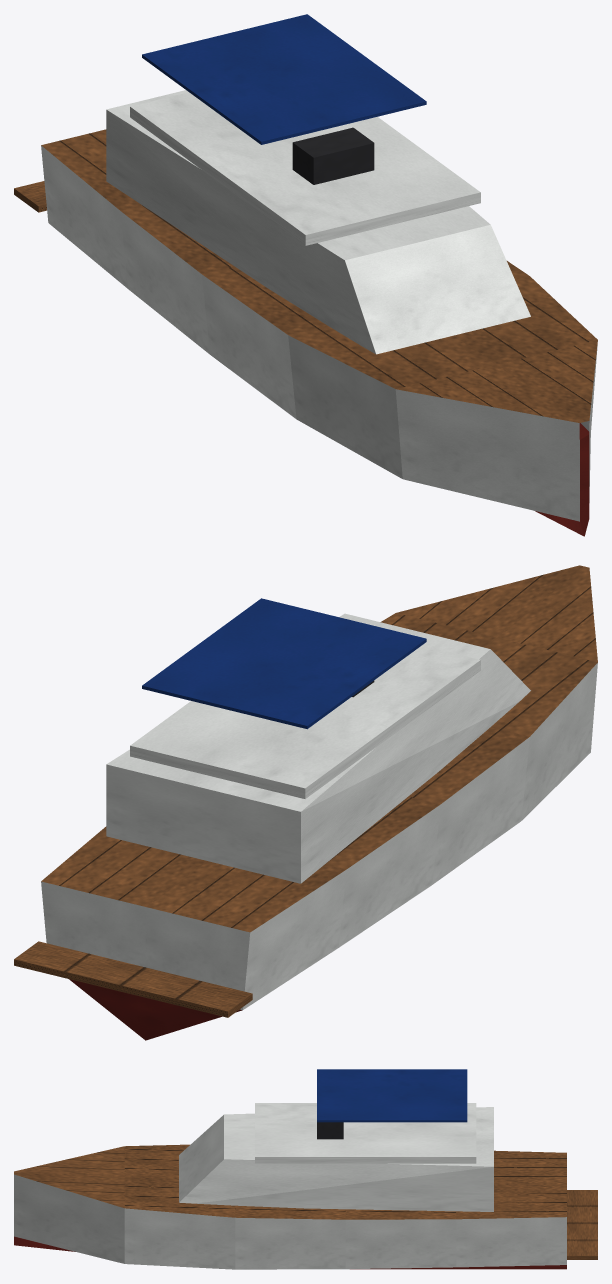
File: SM_Mirabello_YachtA_LOD2.fbx
3 renders of one model, top to bottom at view 1: azimuth 30°, elevation 25°; view 2: azimuth 150°, elevation 25°; view 3: azimuth 270°, elevation 25°, orthographic. The views are drawn at different scales.
Visible parts, largest first — view 1: SM_Mirabello_YachtA_LOD2; view 2: SM_Mirabello_YachtA_LOD2; view 3: SM_Mirabello_YachtA_LOD2.
Boxes of the visible parts, x1,y1,x2,y2 form: SM_Mirabello_YachtA_LOD2: [14, 14, 597, 536]; SM_Mirabello_YachtA_LOD2: [14, 565, 597, 1040]; SM_Mirabello_YachtA_LOD2: [14, 1069, 597, 1269].
Size of the model in its own units: 398 by 1320 by 435.
1 material, 1 textured.
